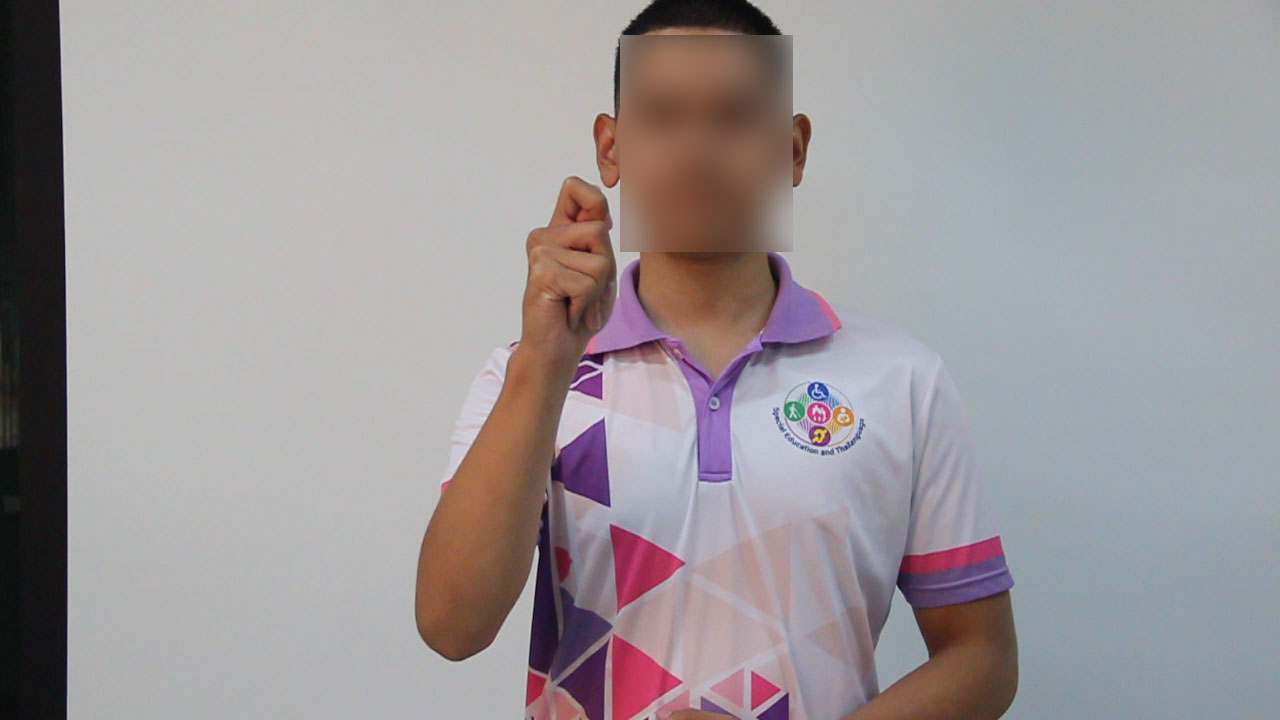or: (513, 166, 623, 366)
